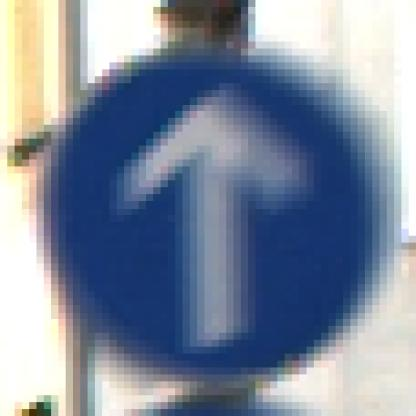AheadOnly: (38, 43, 381, 382)
